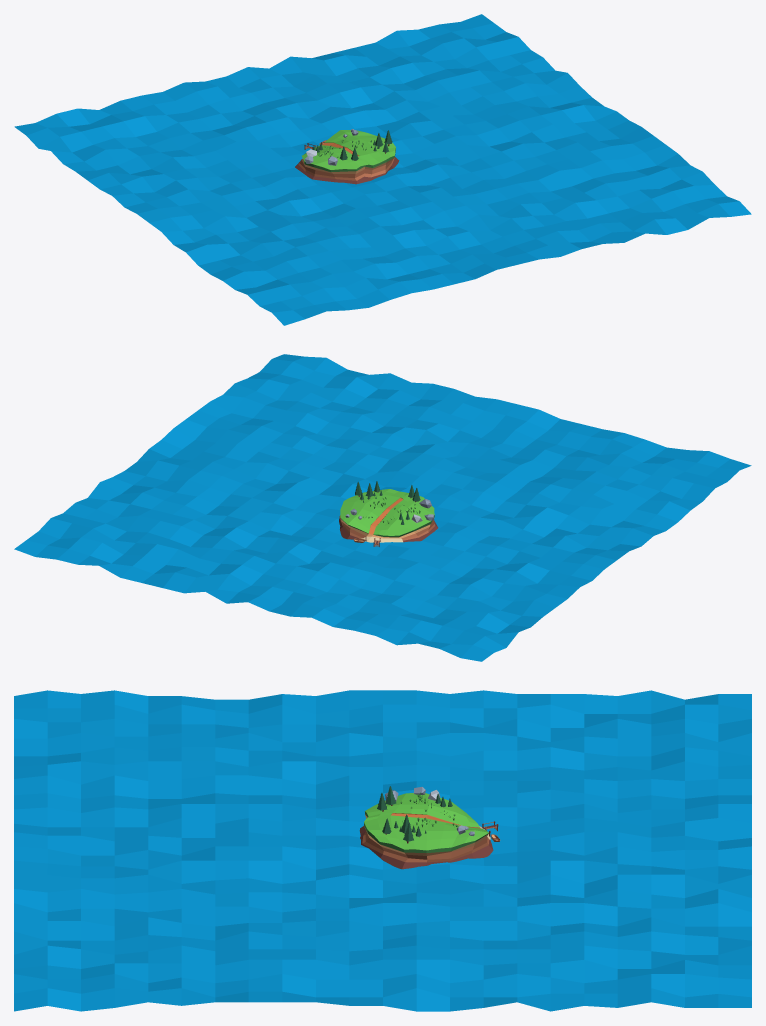
The model's file is IslLowPoly.fbx.
The picture shows the model from 3 angles, top to bottom: view 1: azimuth 30°, elevation 25°; view 2: azimuth 150°, elevation 25°; view 3: azimuth 270°, elevation 25°; orthographic projection. The views are drawn at different scales.
Visible parts, largest first — view 1: Water, Cube.019; view 2: Water, Cube.019; view 3: Water, Cube.019.
Boxes of the visible parts, x1,y1,x2,y2 form: Water: (14,14,751,325); Cube.019: (295,130,399,184); Water: (14,354,751,661); Cube.019: (339,489,438,542); Water: (14,690,751,1011); Cube.019: (359,793,493,869).
Size of the model in its own units: 12451 by 1514 by 12451.
1 material, 1 textured.
